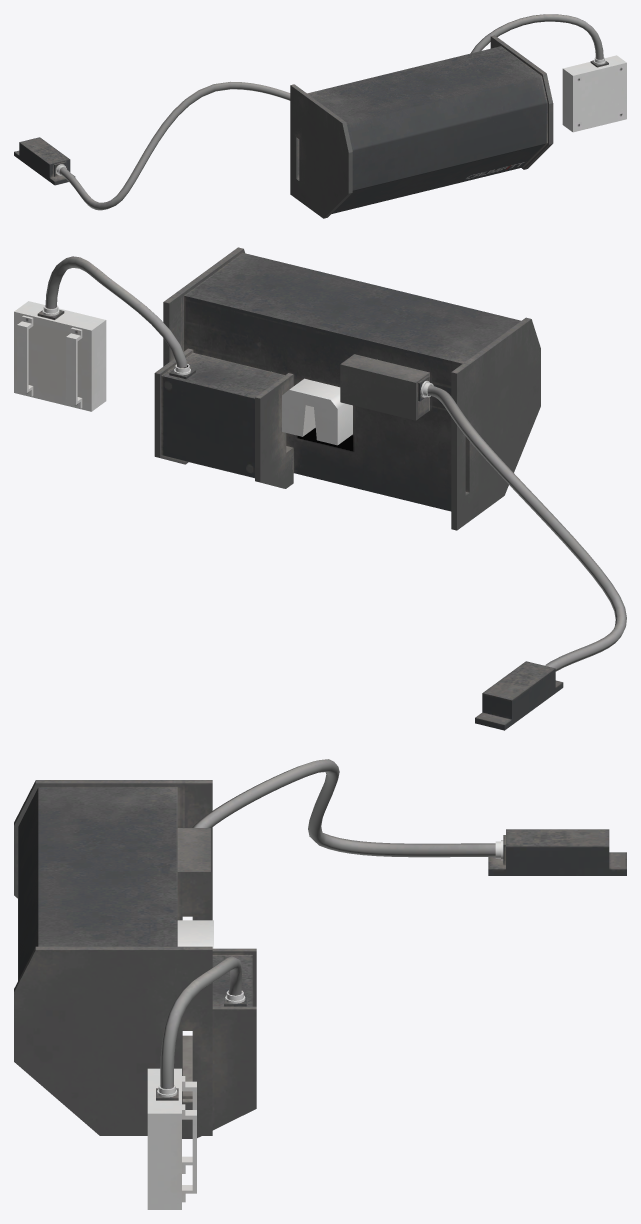
The model's file is SM_Roof_Target_Rail_Motor_01a.glb.
3 renders of one model, top to bottom at view 1: azimuth 30°, elevation 25°; view 2: azimuth 150°, elevation 25°; view 3: azimuth 270°, elevation 25°, orthographic. The views are drawn at different scales.
Parts seen in each view (by area): view 1: SM_Roof_Target_Rail_Motor_01a; view 2: SM_Roof_Target_Rail_Motor_01a; view 3: SM_Roof_Target_Rail_Motor_01a.
Part boxes in pixels (x1,y1,x2,y2): SM_Roof_Target_Rail_Motor_01a: (14,14,626,218); SM_Roof_Target_Rail_Motor_01a: (14,247,626,730); SM_Roof_Target_Rail_Motor_01a: (14,759,626,1209).
Bounding box in the file's own units: 1.26 × 0.3348 × 0.827.
1 material, 1 textured.
